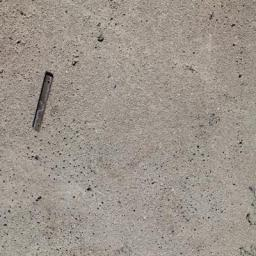FOD: (33, 70, 56, 134)
